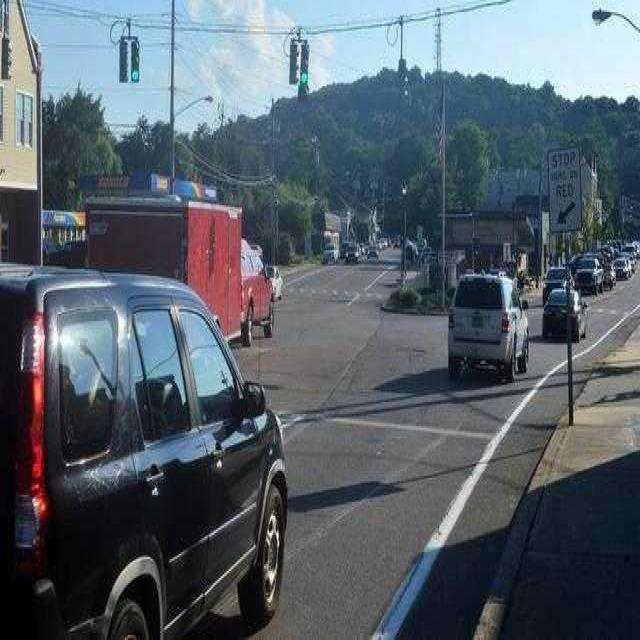Traffic Light -Green-: (128, 37, 144, 84), (298, 44, 311, 88)
